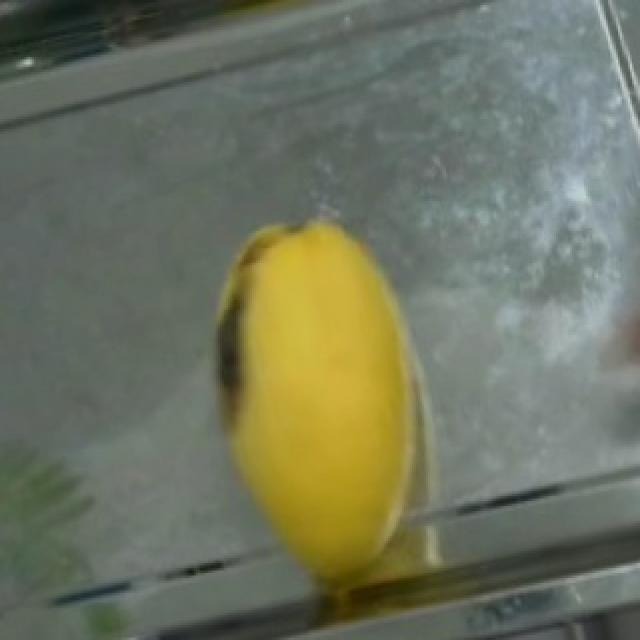fruit: (182, 176, 514, 573)
